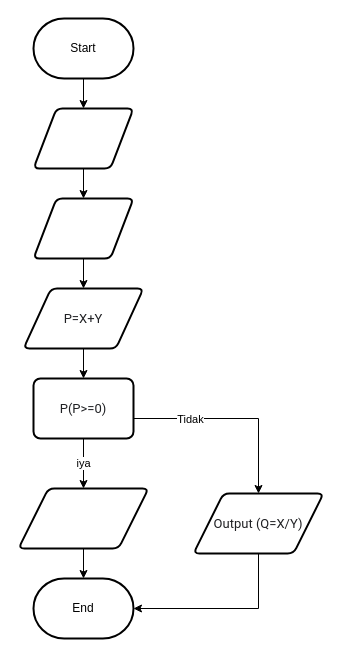
This 341x656 diagram has some shape labels left out. Each missing label, with the centre of its shape:
"Input X" belongs at pixel 83 138.
"Input Y" belongs at pixel 83 228.
"Output (Q=X*Y)" belongs at pixel 83 518.
